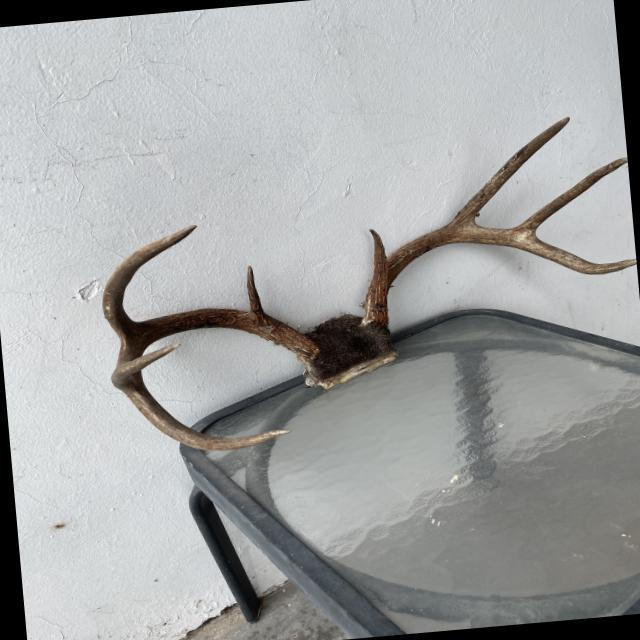L-F: (362, 228, 636, 328)
L-G1: (369, 227, 387, 285)
L-G2: (442, 115, 569, 227)
L-G3: (514, 157, 627, 235)
R-G1: (245, 265, 266, 317)
R-G2: (102, 224, 197, 344)
